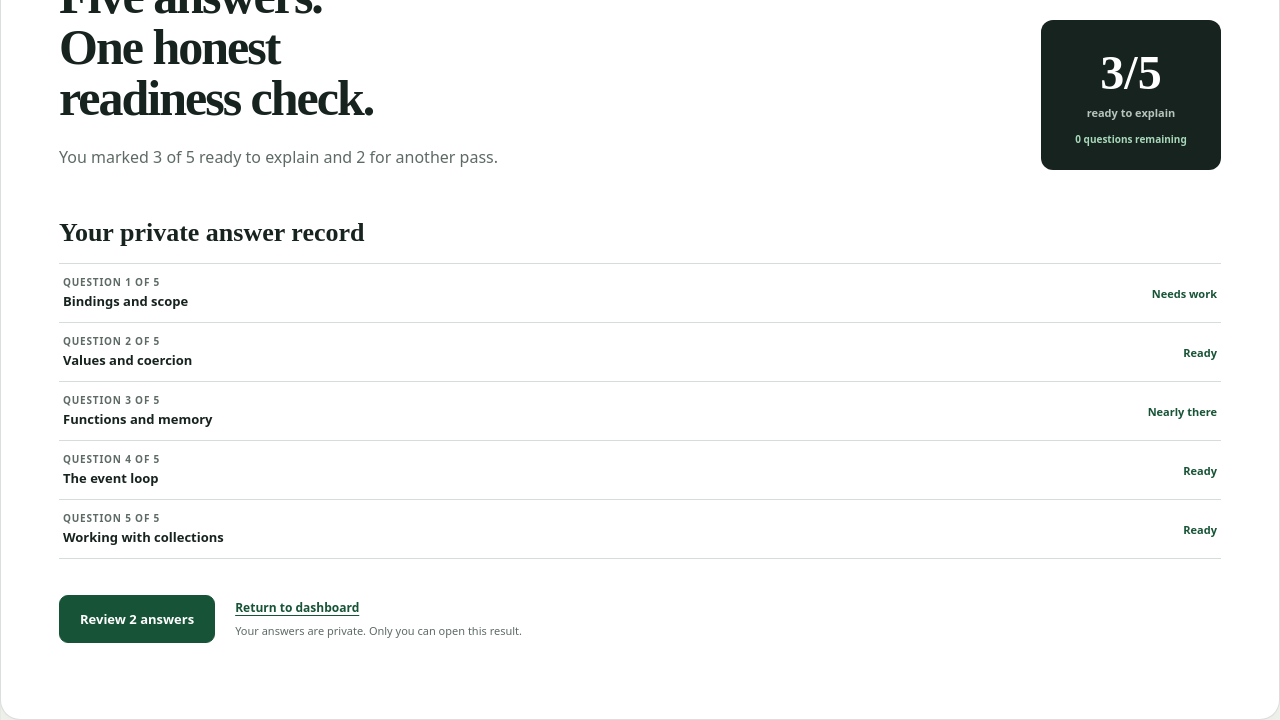
Scenario: InterviewDrill › loads the exact first saved answer and rating without creating a new drill
The width and height of the screenshot is (1280, 720).
(page scrolled)
Click the button "Review 2 answers" at {"x": 137, "y": 619}, box [59,595,215,643]
(page scrolled)
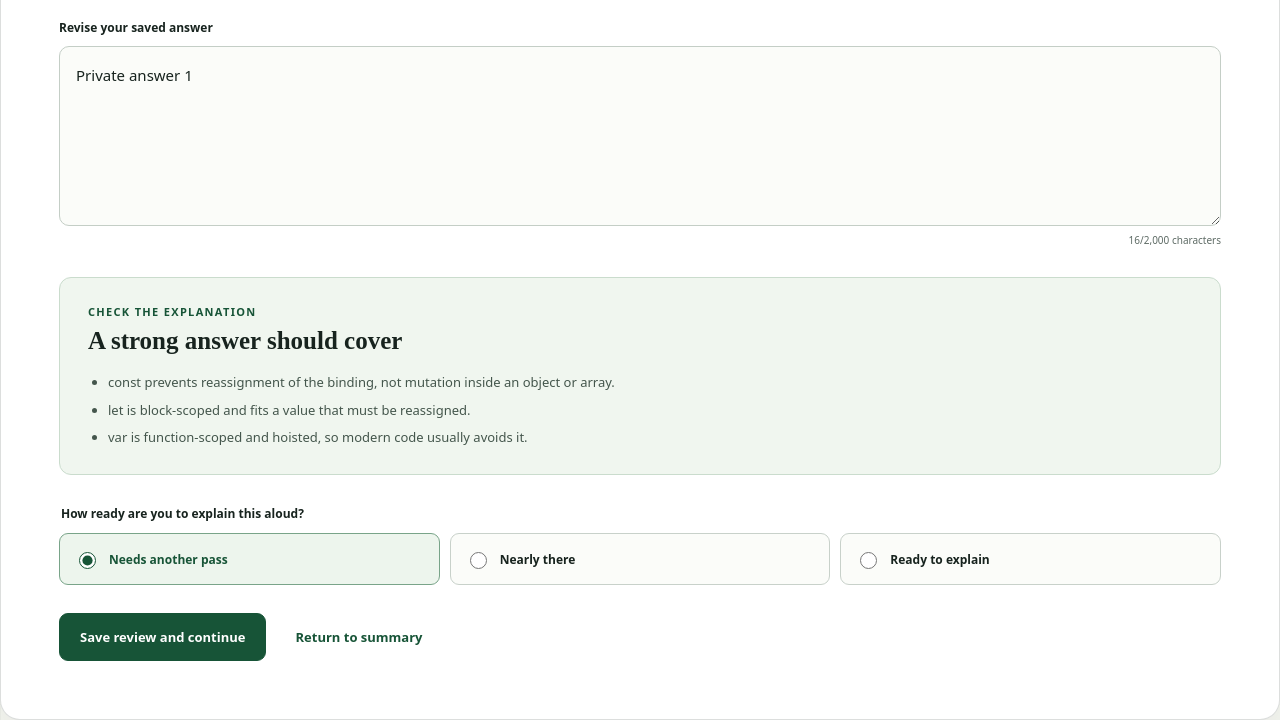
Expected: the text box labelled "Revise your saved answer 16/2,000 characters" holds "Private answer 1", [59,46,1221,226]
Expected: the radio button labelled "Needs another pass" is checked, [79,552,96,569]
